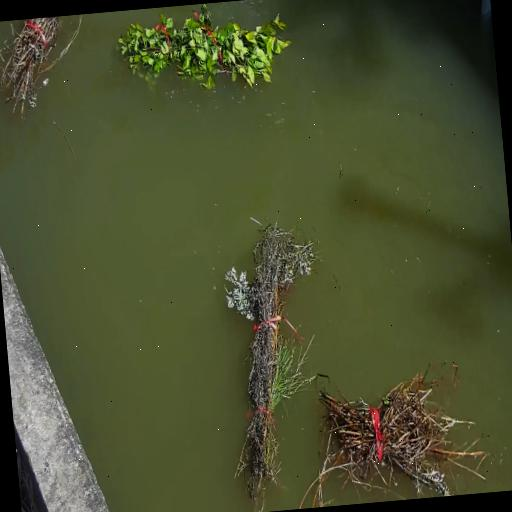twig: (225, 223, 326, 505), (310, 374, 485, 507), (119, 5, 290, 87), (0, 16, 69, 110)
